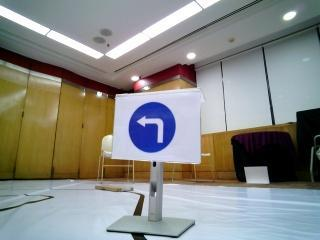left: (119, 97, 190, 156)
